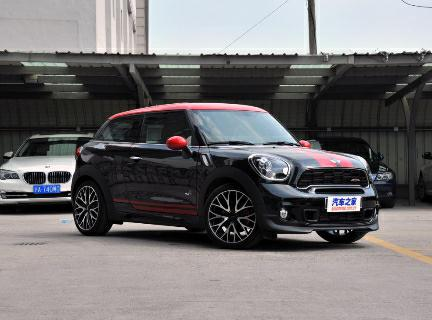MINI-JCWPACEMAN: (66, 99, 386, 248)
